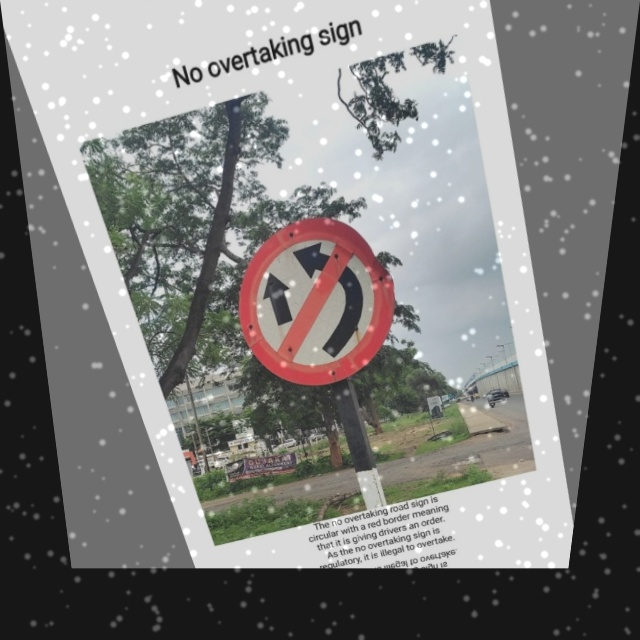Overtaking_Prohibited: (217, 198, 416, 399)
